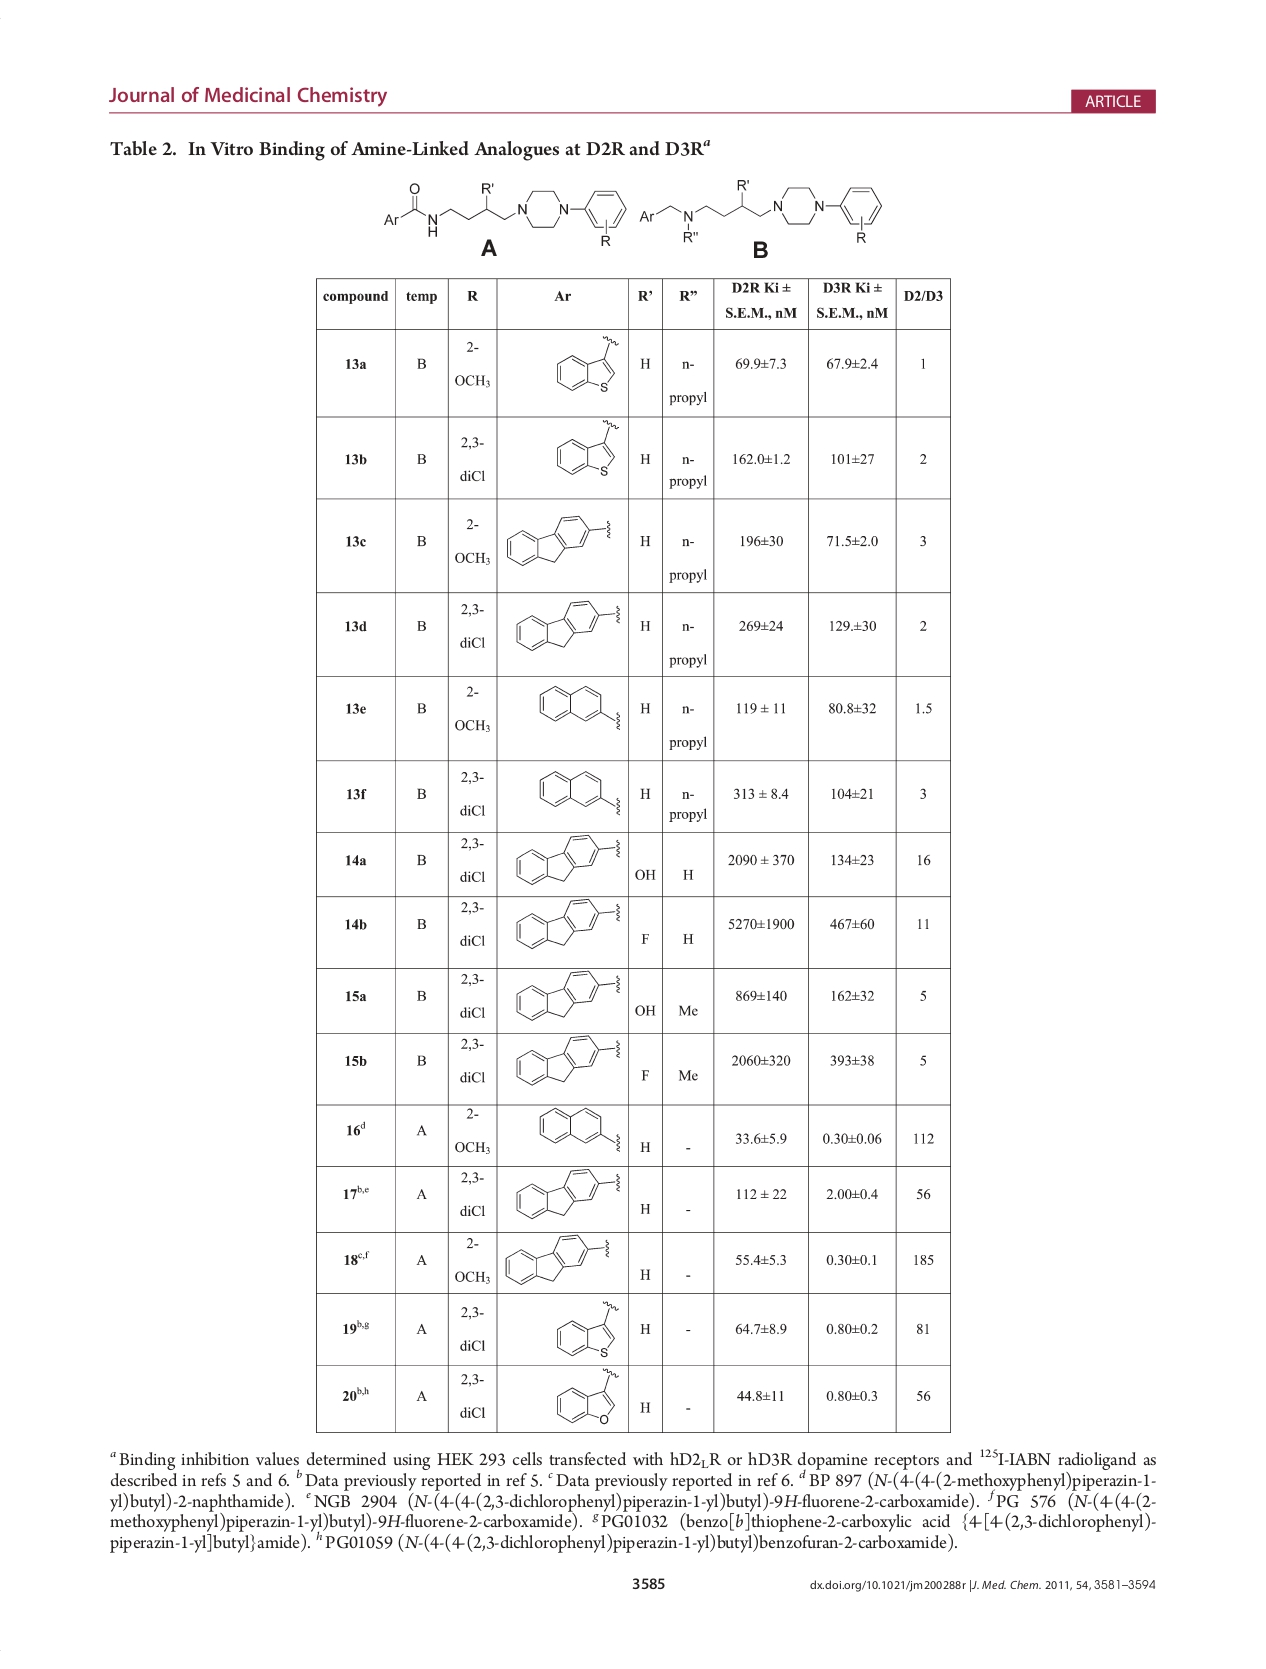exist_molecular: (637, 177, 883, 243), (382, 181, 628, 247), (504, 513, 613, 569), (515, 597, 624, 653), (513, 896, 622, 952), (513, 1168, 622, 1223), (501, 1231, 613, 1286), (513, 833, 624, 887), (513, 1033, 622, 1088), (513, 969, 622, 1021), (536, 684, 625, 734), (536, 767, 622, 818), (537, 1105, 624, 1156), (553, 1298, 621, 1360), (553, 332, 622, 394), (555, 418, 621, 480), (555, 1367, 620, 1426)
